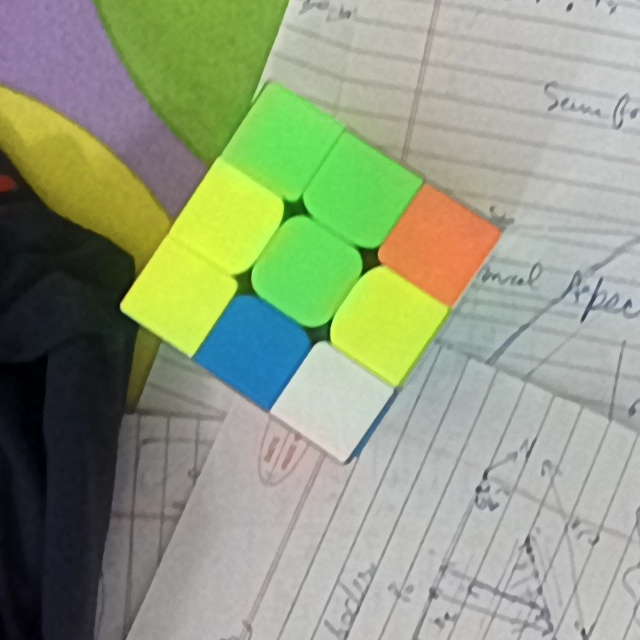tile: (355, 289, 419, 356), (300, 369, 367, 431), (217, 321, 288, 379), (270, 245, 338, 303), (404, 219, 474, 274), (324, 168, 391, 224), (251, 111, 311, 173), (149, 264, 209, 325), (196, 194, 258, 253)
